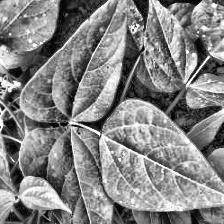Bean Rust: (104, 101, 224, 219), (24, 0, 130, 125), (18, 126, 119, 224), (140, 0, 199, 84), (0, 0, 65, 50), (131, 200, 209, 224), (199, 0, 224, 69), (189, 72, 224, 110)
